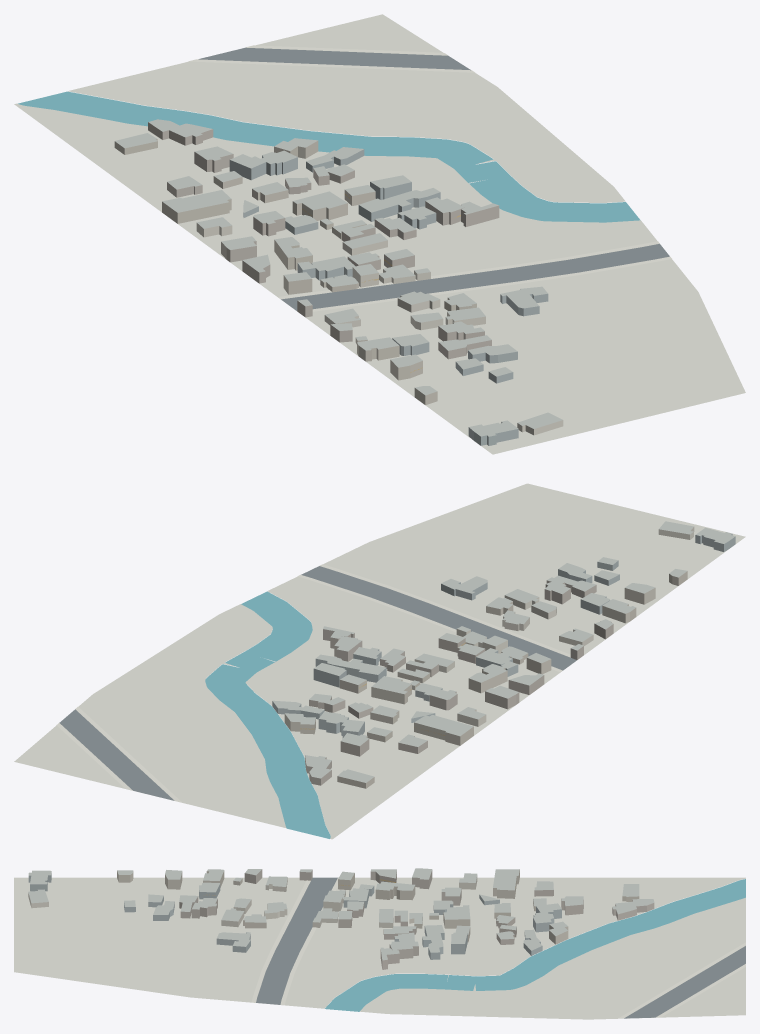
3 views of the same model, one above another, from view 1: azimuth 30°, elevation 25°; view 2: azimuth 150°, elevation 25°; view 3: azimuth 270°, elevation 25° (orthographic). The views are drawn at different scales.
Visible parts, largest first — view 1: city; view 2: city; view 3: city.
Boxes of the visible parts, box(x1,y1,x2,y2) form: city: box(14, 14, 745, 454); city: box(14, 483, 745, 839); city: box(14, 868, 745, 1019).
Bounding box in the file's own units: 229 × 7.88 × 500.
